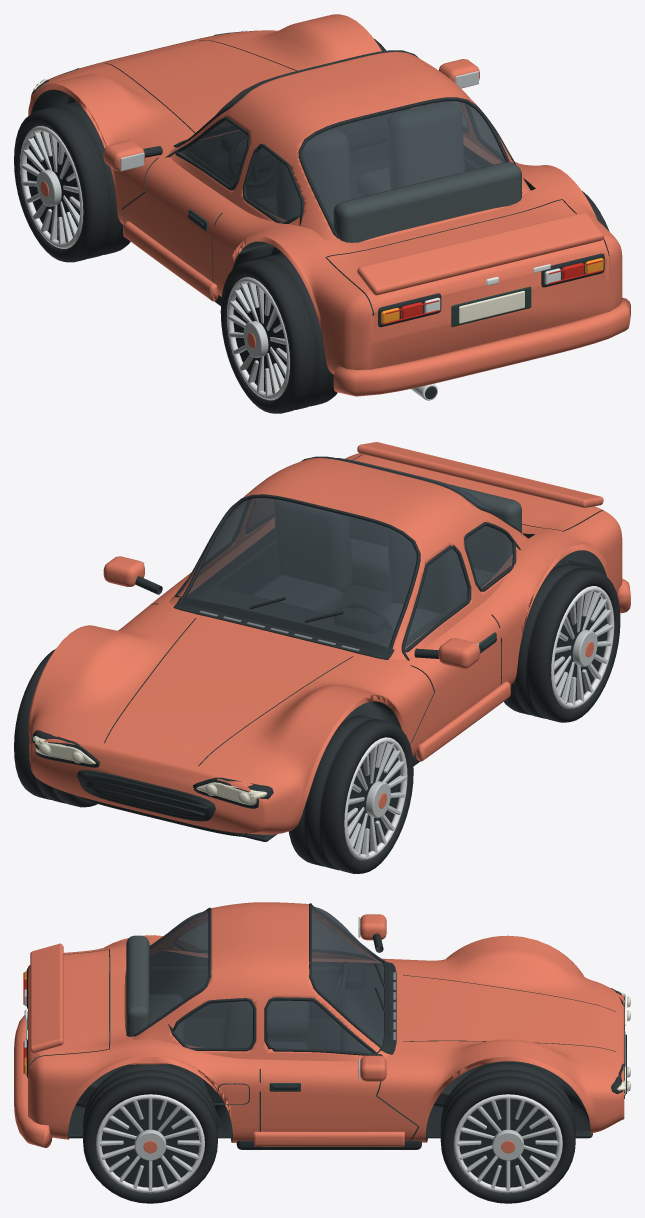
The model's file is sakura.fbx.
3 renders of one model, top to bottom at view 1: azimuth 30°, elevation 25°; view 2: azimuth 150°, elevation 25°; view 3: azimuth 270°, elevation 25°, orthographic. The views are drawn at different scales.
Visible parts, largest first — view 1: Body, Wheel_RL_Mesh, Wheel_FL_Mesh; view 2: Body, Wheel_FL_Mesh, Wheel_RL_Mesh, Wheel_FR_Mesh; view 3: Body, Wheel_FR_Mesh, Wheel_RR_Mesh.
Boxes of the visible parts, left/top/right/bottom form: Body: left=28, top=14, right=630, bottom=400; Wheel_RL_Mesh: left=220, top=253, right=337, bottom=413; Wheel_FL_Mesh: left=14, top=101, right=130, bottom=262; Body: left=28, top=442, right=630, bottom=841; Wheel_FL_Mesh: left=288, top=713, right=413, bottom=873; Wheel_RL_Mesh: left=504, top=561, right=620, bottom=722; Wheel_FR_Mesh: left=14, top=649, right=97, bottom=807; Body: left=14, top=902, right=630, bottom=1149; Wheel_FR_Mesh: left=440, top=1063, right=575, bottom=1203; Wheel_RR_Mesh: left=83, top=1064, right=217, bottom=1203.
Size of the model in its own units: 233 by 146 by 393.
